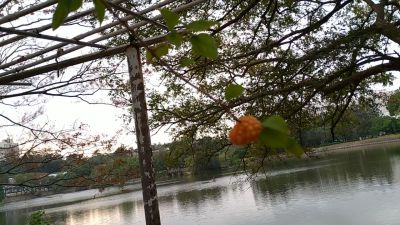eggs: (230, 114, 263, 146)
